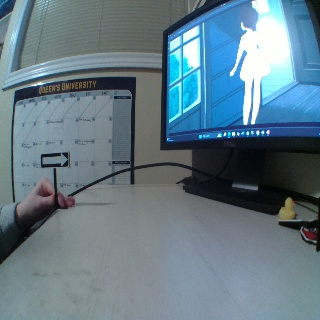sign_oneway_right: (39, 151, 69, 167)
